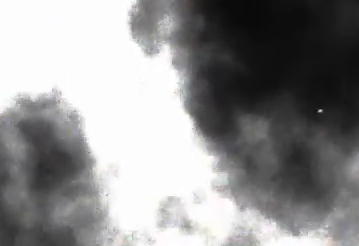Target: (317, 110, 322, 113)
